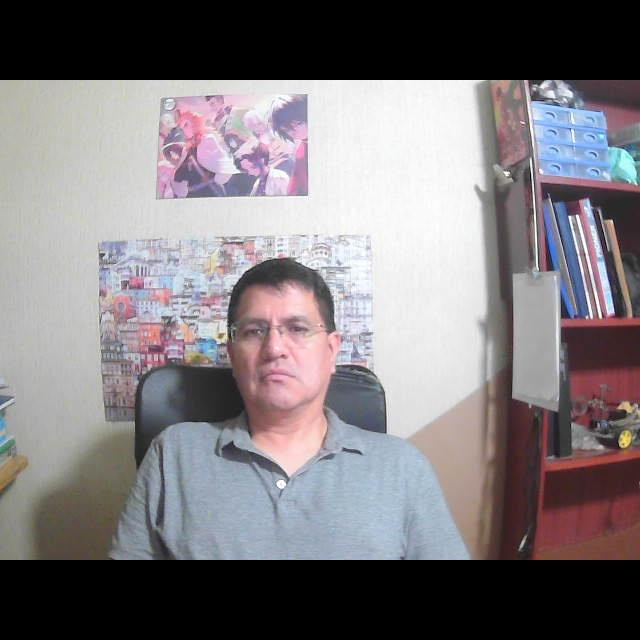cesar: (213, 244, 357, 462)
